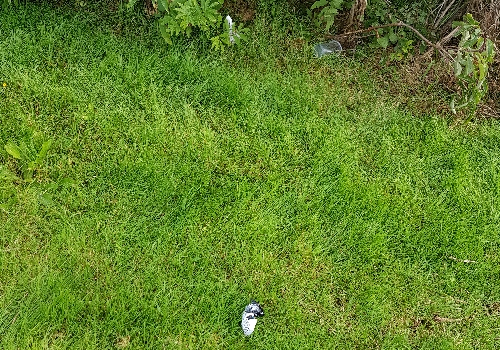trash: (233, 294, 264, 336), (310, 33, 342, 62)
